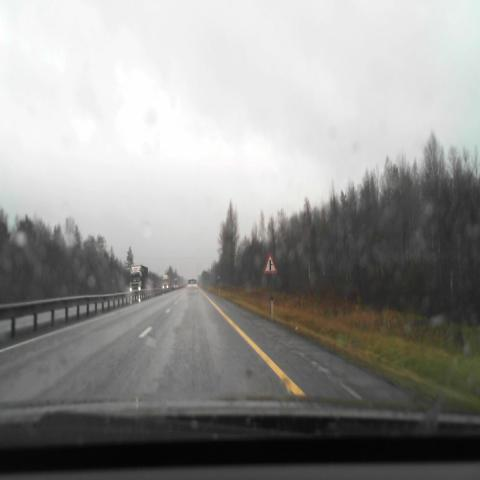2_3_2: (264, 252, 277, 274)
